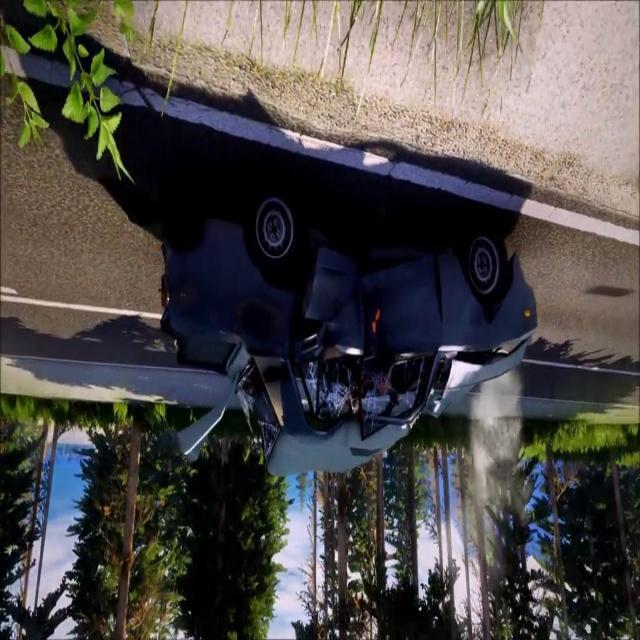severe: (156, 187, 540, 476)
